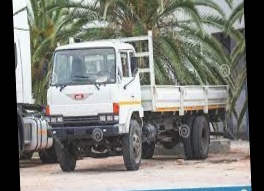truck: (41, 25, 231, 174)
